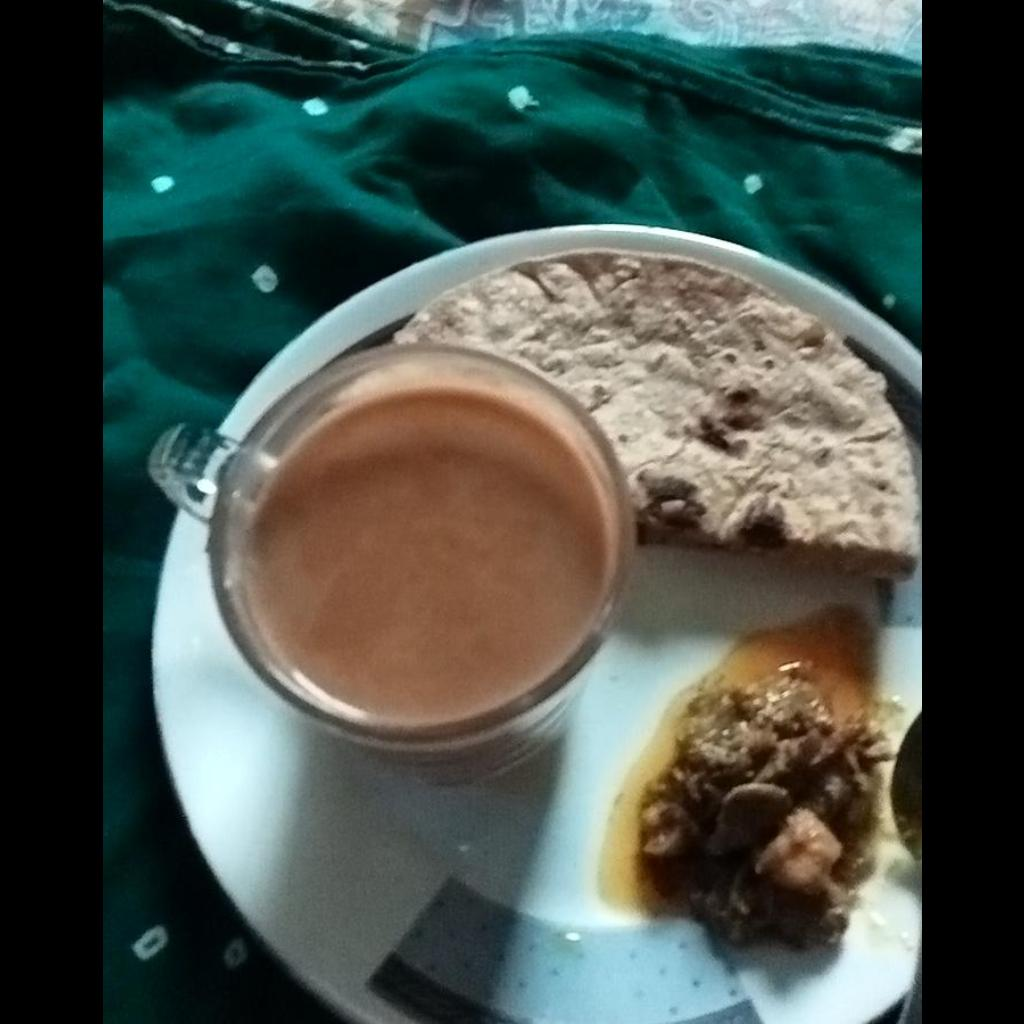cha: (246, 389, 611, 728)
chicken: (640, 653, 897, 951)
ruti: (396, 247, 919, 570)
